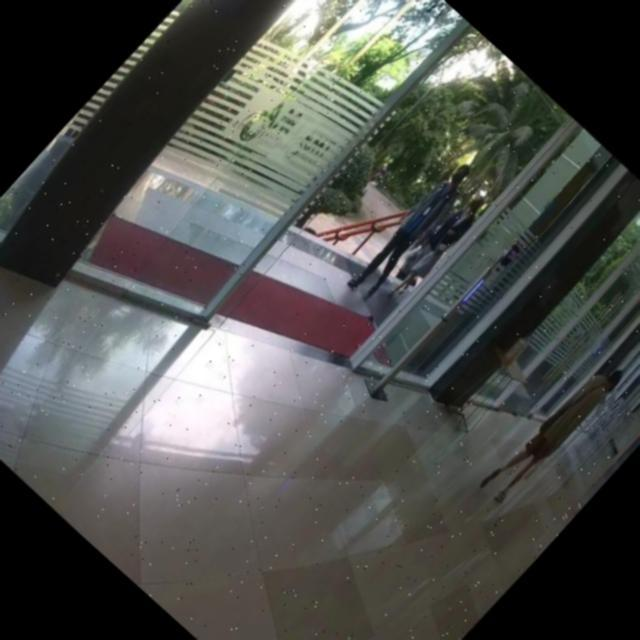person: (479, 354, 625, 512), (344, 156, 482, 304), (385, 187, 492, 303)
